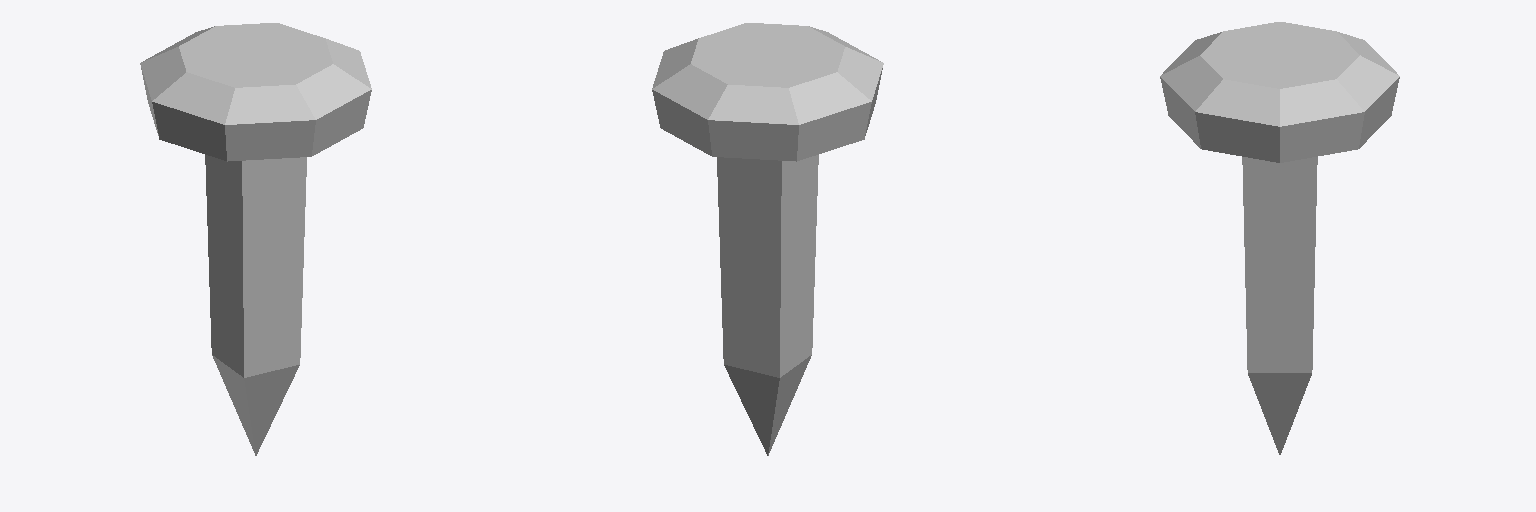
The model's file is nail.obj.
3 views of the same model, side by side, from view 1: azimuth 30°, elevation 25°; view 2: azimuth 150°, elevation 25°; view 3: azimuth 270°, elevation 25° (orthographic).
Parts seen in each view (by area): view 1: nail; view 2: nail; view 3: nail.
Part boxes in pixels (left/top/right/bottom): nail: left=140, top=23, right=371, bottom=455; nail: left=652, top=23, right=883, bottom=455; nail: left=1160, top=22, right=1399, bottom=454.
Size of the model in its own units: 0.1589 by 0.2931 by 0.1589.